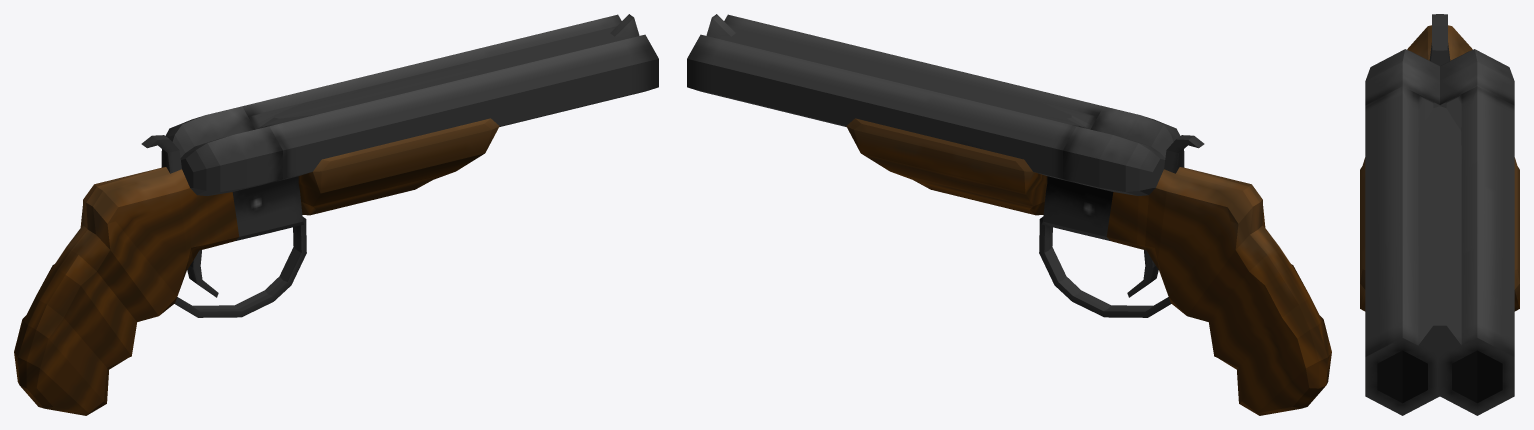
File: pistola.fbx
3 renders of one model, left to right at view 1: azimuth 30°, elevation 25°; view 2: azimuth 150°, elevation 25°; view 3: azimuth 270°, elevation 25°, orthographic. The views are drawn at different scales.
Visible parts, largest first — view 1: Mango, Barril; view 2: Mango, Barril; view 3: Barril, Mango.
Part boxes in pixels (left/top/right/bottom): Mango: left=14, top=106, right=306, bottom=415; Barril: left=242, top=14, right=658, bottom=215; Mango: left=1039, top=106, right=1331, bottom=415; Barril: left=687, top=14, right=1103, bottom=215; Barril: left=1360, top=86, right=1519, bottom=415; Mango: left=1365, top=14, right=1514, bottom=105.
Bounding box in the file's own units: 4.27 × 25.98 × 10.68.
1 material, 1 textured.
